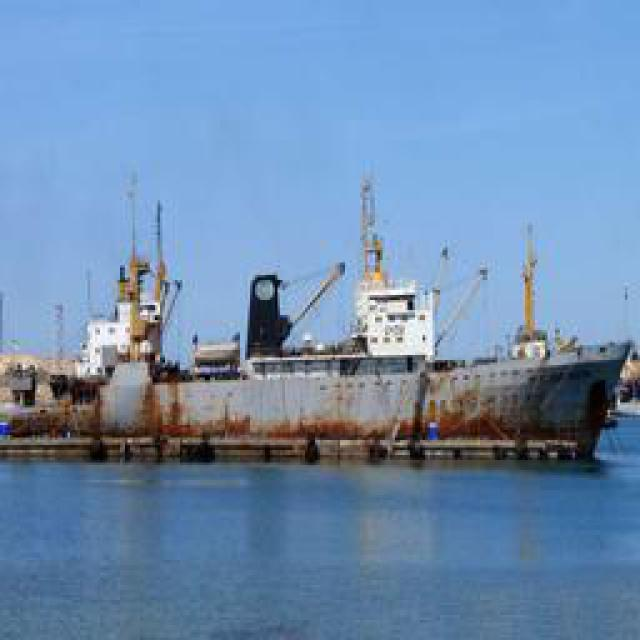Ship: (12, 171, 635, 454)
